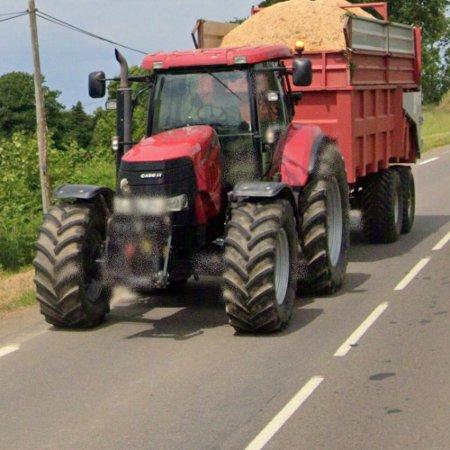tractors: (362, 163, 416, 242)
